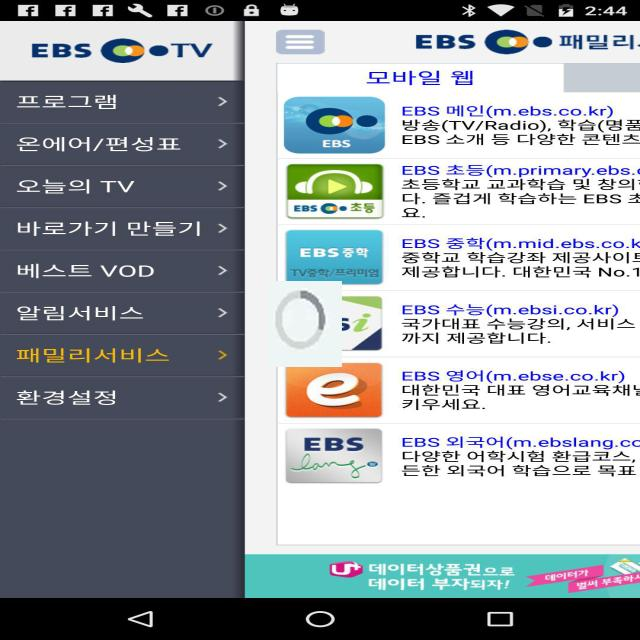misdirection: (267, 281, 342, 367)
